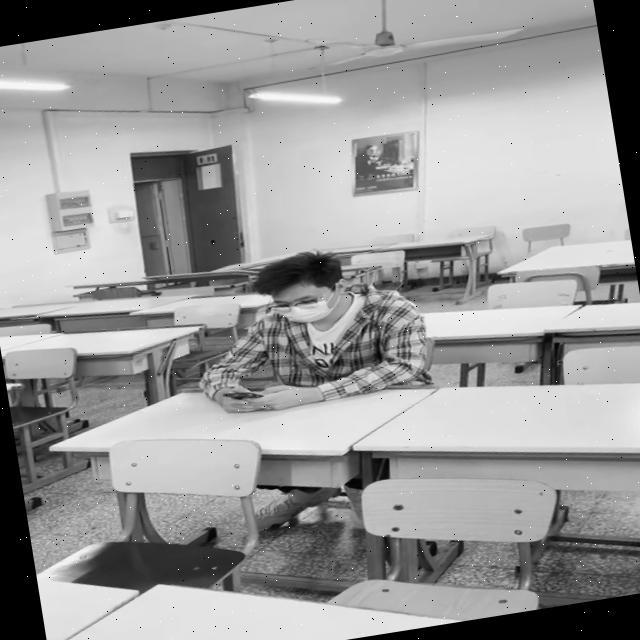phone: (186, 239, 431, 420)
